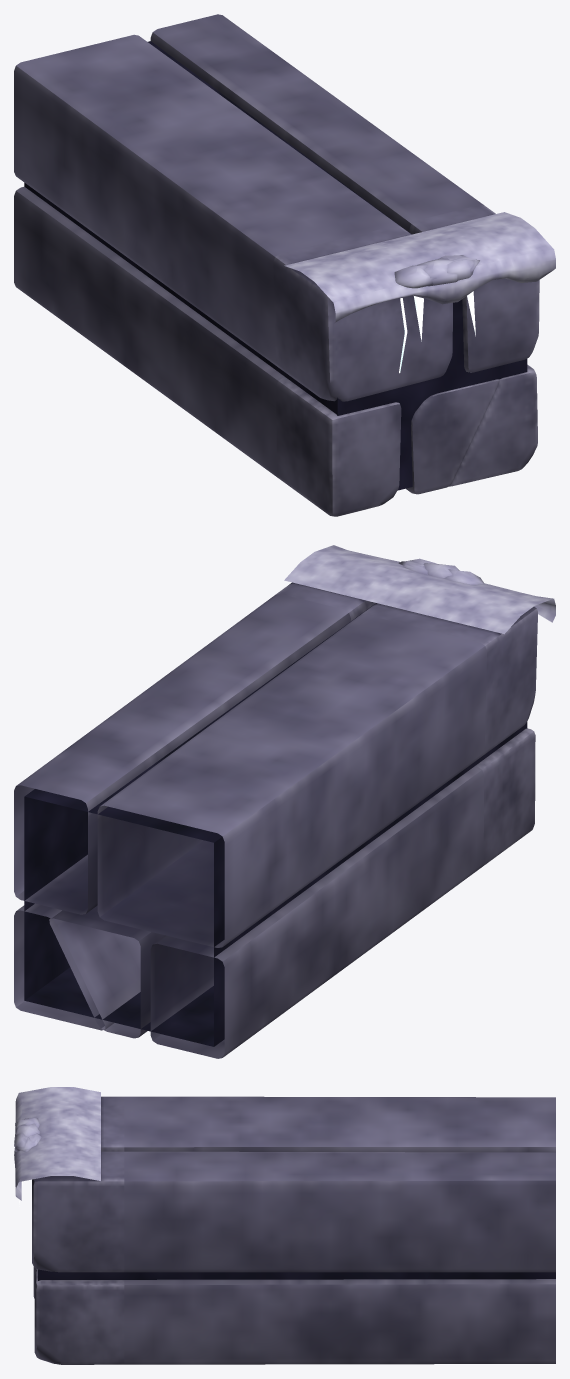
Rendered from Promenade_Top_A.fbx.
3 renders of one model, top to bottom at view 1: azimuth 30°, elevation 25°; view 2: azimuth 150°, elevation 25°; view 3: azimuth 270°, elevation 25°, orthographic. The views are drawn at different scales.
Visible parts, largest first — view 1: Promenade_Top_A; view 2: Promenade_Top_A; view 3: Promenade_Top_A.
Part boxes in pixels (bbox=[...]): Promenade_Top_A: bbox=[14, 14, 555, 516]; Promenade_Top_A: bbox=[14, 545, 555, 1058]; Promenade_Top_A: bbox=[14, 1087, 555, 1364].
Size of the model in its own units: 1 by 1.03 by 2.57.
